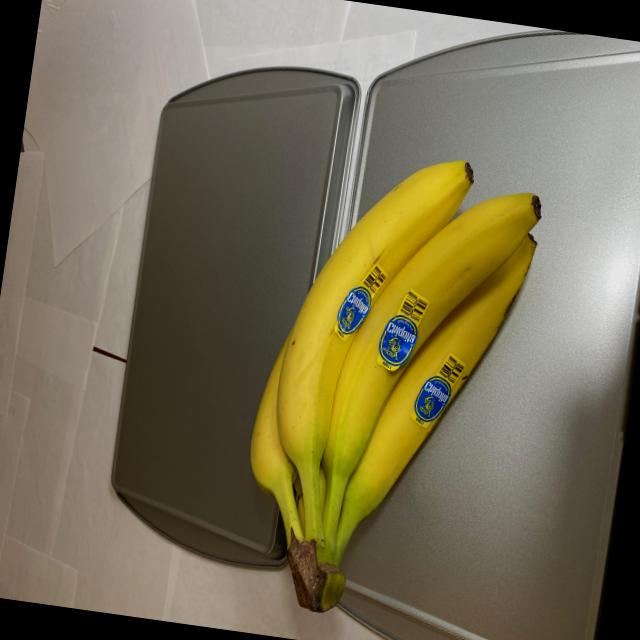banana: (221, 135, 563, 640)
